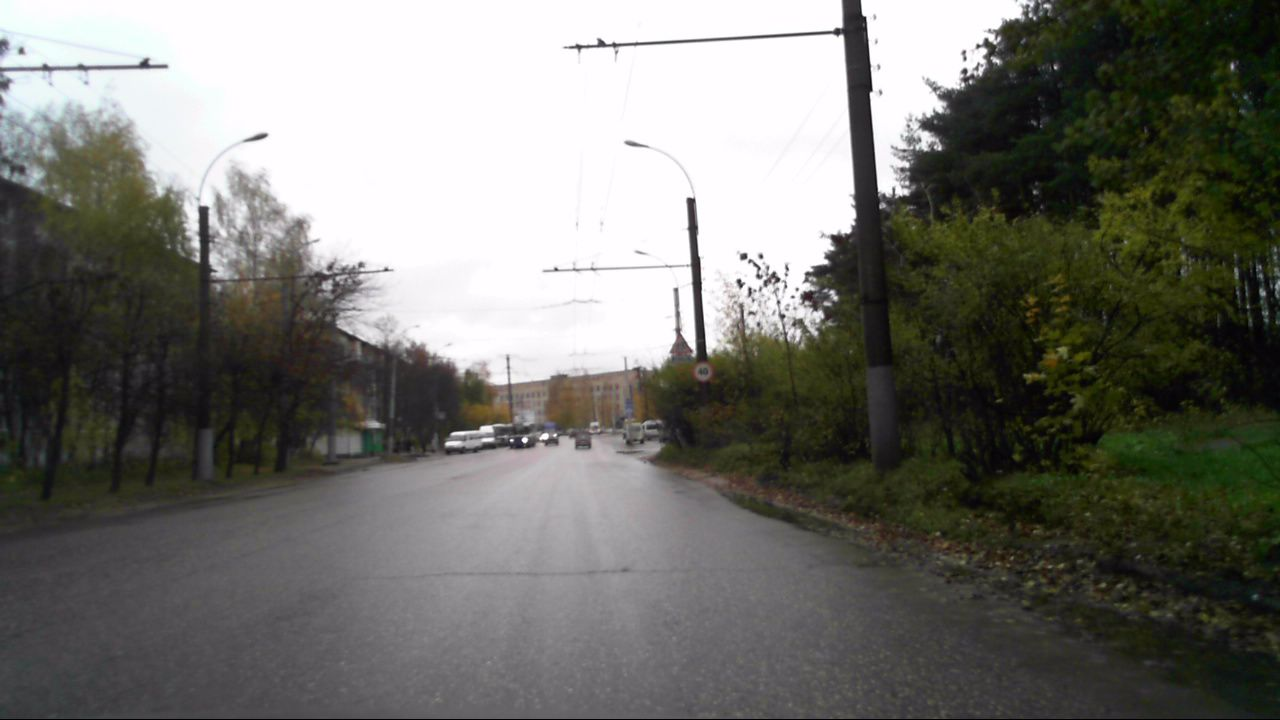speed_warning_40: (693, 360, 715, 383)
